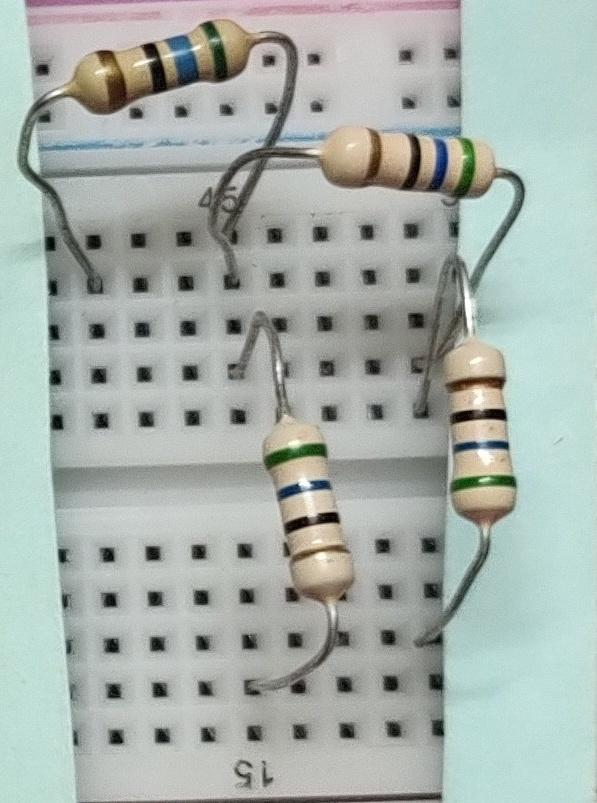resistor: (309, 112, 516, 231), (264, 402, 371, 627), (62, 15, 266, 125), (437, 330, 534, 536)
